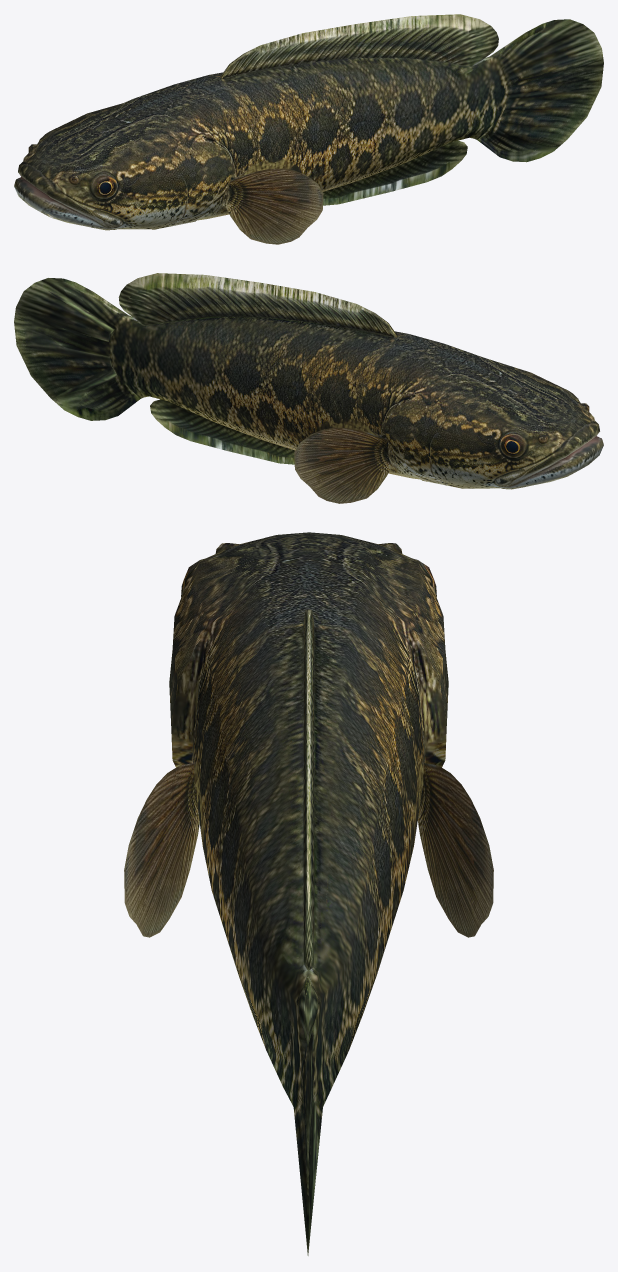
File: snakehead.glb
3 views of the same model, one above another, from view 1: azimuth 30°, elevation 25°; view 2: azimuth 150°, elevation 25°; view 3: azimuth 270°, elevation 25° (orthographic). The views are drawn at different scales.
Visible parts, largest first — view 1: tripo_node_425fc341-1154-4098-9644-948d3cd5e630; view 2: tripo_node_425fc341-1154-4098-9644-948d3cd5e630; view 3: tripo_node_425fc341-1154-4098-9644-948d3cd5e630.
Boxes of the visible parts, <box> form: tripo_node_425fc341-1154-4098-9644-948d3cd5e630: <box>14,14,603,244</box>; tripo_node_425fc341-1154-4098-9644-948d3cd5e630: <box>14,273,603,503</box>; tripo_node_425fc341-1154-4098-9644-948d3cd5e630: <box>124,532,493,1255</box>.
Size of the model in its own units: 0.9995 by 0.3022 by 0.2759.
1 material, 1 textured.
